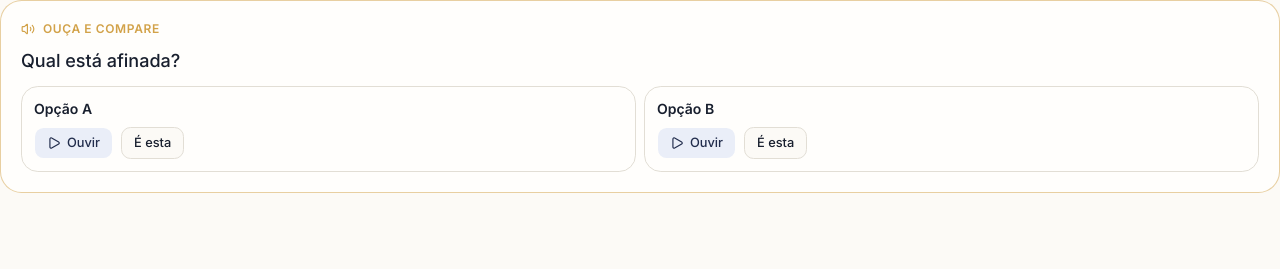
Test: Compare › só revela os rótulos depois do acerto no desafio de escuta
The image size is (1280, 269).
Step 1. Click the button "É esta" below "Opção B" → point(776, 143), box [744, 127, 807, 159]
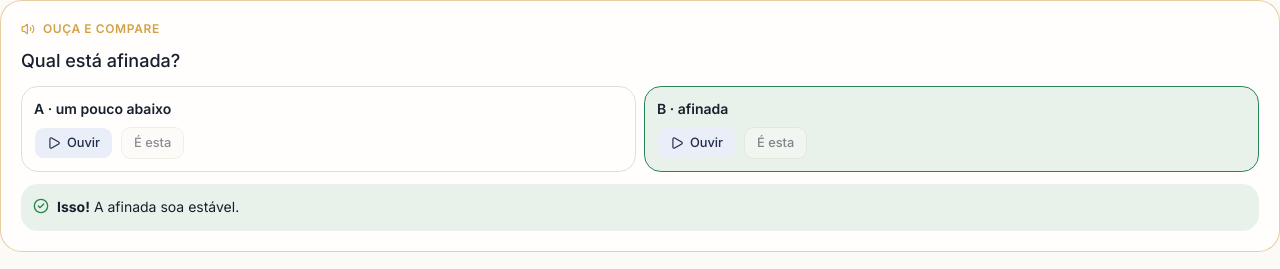
Expected: the text "B · afinada" is shown, [657, 100, 728, 117]
Expected: the text "Isso! A afinada soa estável." is shown, [57, 196, 239, 219]
